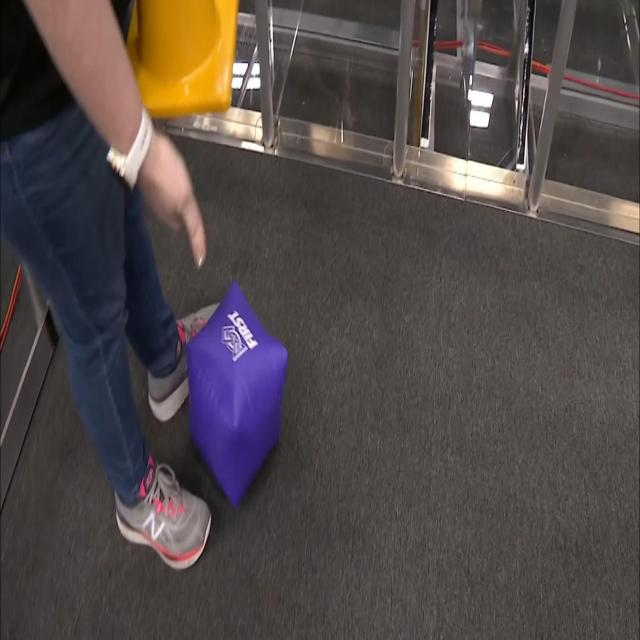frc_cone: (124, 0, 237, 110)
frc_cube: (179, 278, 289, 502)
